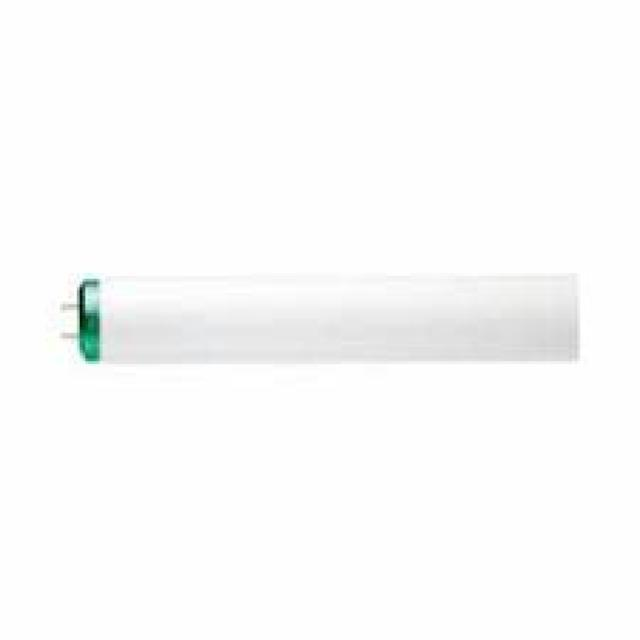tubelight_off: (54, 265, 602, 373)
